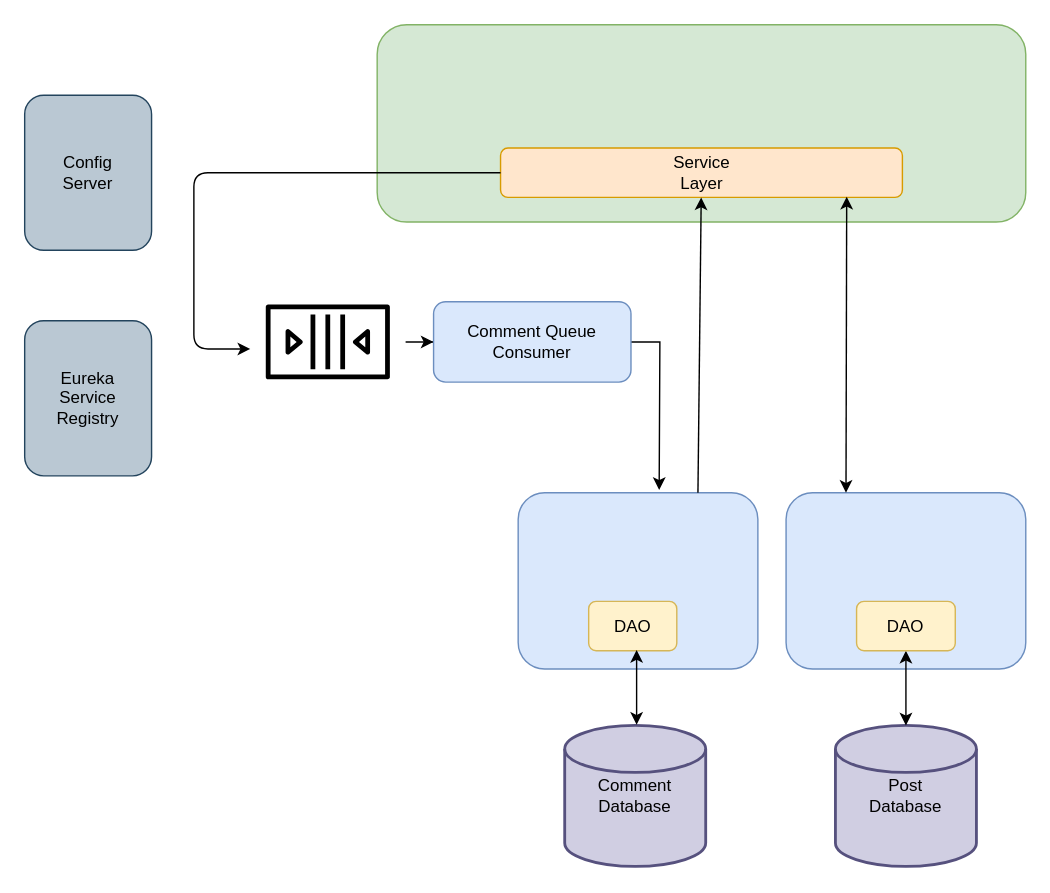
Image size: 1050x893. Some labels were removed from this diagram. Here are the shapes that lost their labels. From the top down, the box of each, then its label:
(376, 23, 1026, 222): Stwitter Service
(249, 263, 405, 419): RabbitMQ
(517, 491, 758, 669): Comment Service
(785, 491, 1026, 669): Post Service
